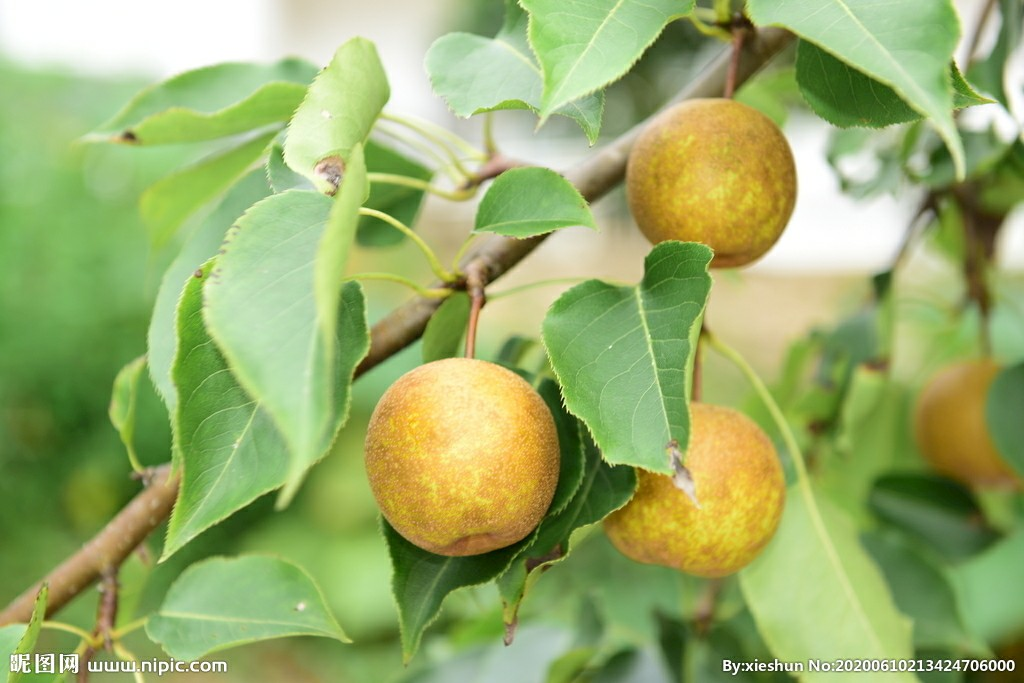pear: (362, 357, 559, 554), (600, 403, 782, 576), (628, 96, 795, 274)
